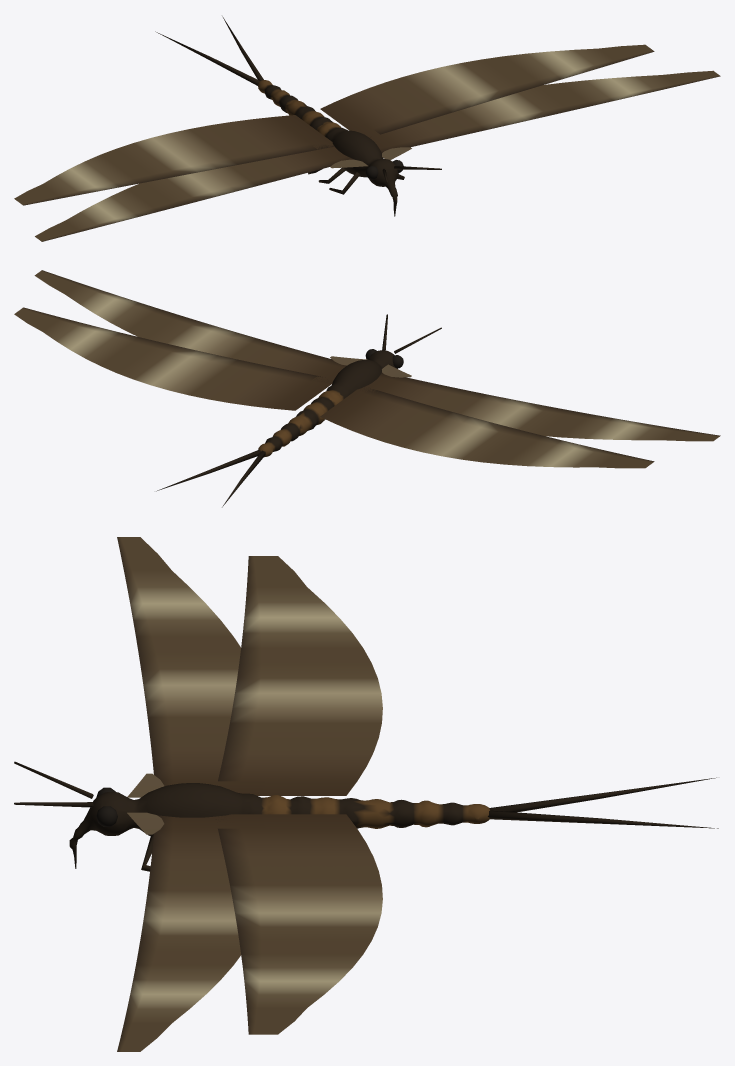
The model's file is Mazothairos.fbx.
3 renders of one model, top to bottom at view 1: azimuth 30°, elevation 25°; view 2: azimuth 150°, elevation 25°; view 3: azimuth 270°, elevation 25°, orthographic. The views are drawn at different scales.
Parts seen in each view (by area): view 1: Mazothairos; view 2: Mazothairos; view 3: Mazothairos.
Boxes of the visible parts, bbox=[...] form: Mazothairos: bbox=[14, 16, 720, 241]; Mazothairos: bbox=[14, 270, 720, 507]; Mazothairos: bbox=[14, 537, 718, 1051].
Bounding box in the file's own units: 2 × 0.1572 × 1.16.
